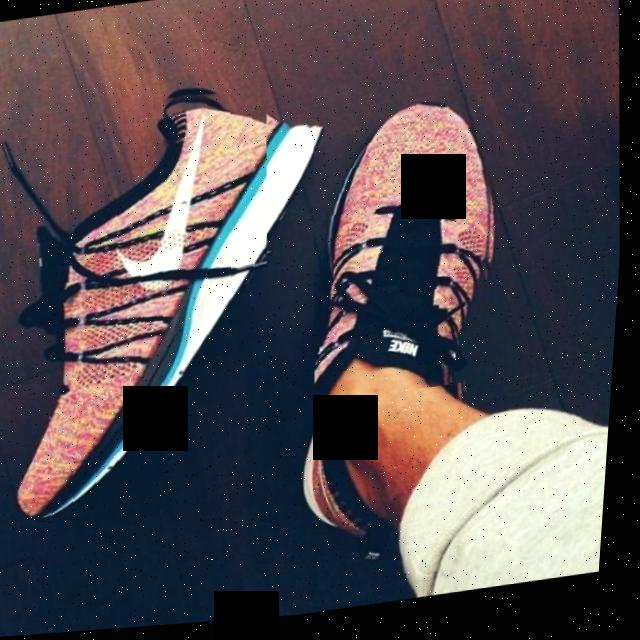shoe: (18, 80, 296, 522), (300, 98, 518, 412)
